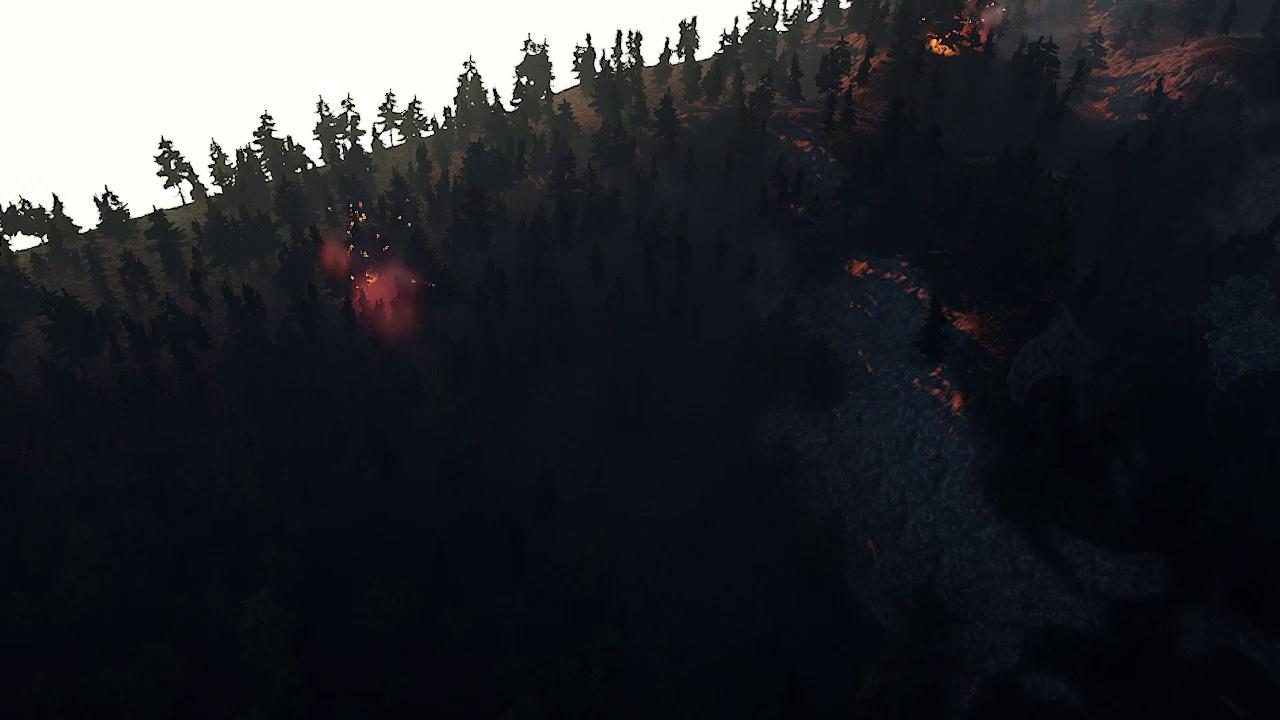fire: (925, 11, 1000, 56)
smoke: (314, 223, 421, 346)
